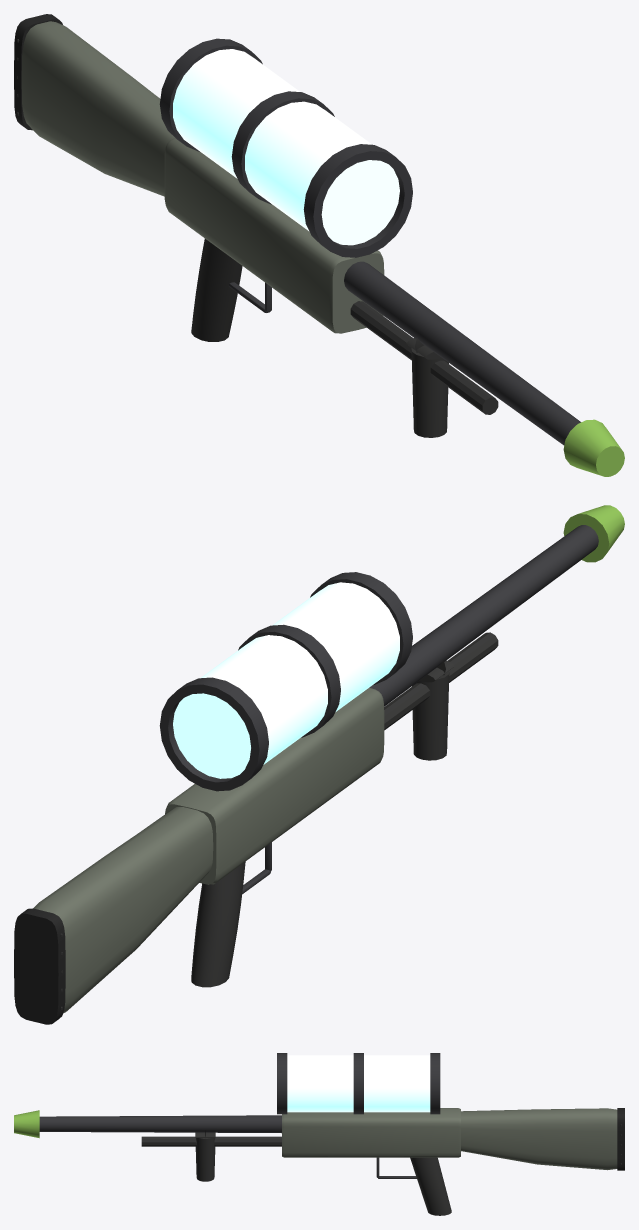
File: acid.glb
3 renders of one model, top to bottom at view 1: azimuth 30°, elevation 25°; view 2: azimuth 150°, elevation 25°; view 3: azimuth 270°, elevation 25°, orthographic. The views are drawn at different scales.
Visible parts, largest first — view 1: Body; view 2: Body; view 3: Body.
Boxes of the visible parts, x1,y1,x2,y2 form: Body: (14, 14, 624, 476); Body: (14, 505, 624, 1024); Body: (14, 1053, 624, 1215).
Size of the model in its own units: 0.096 by 0.2689 by 0.957.
